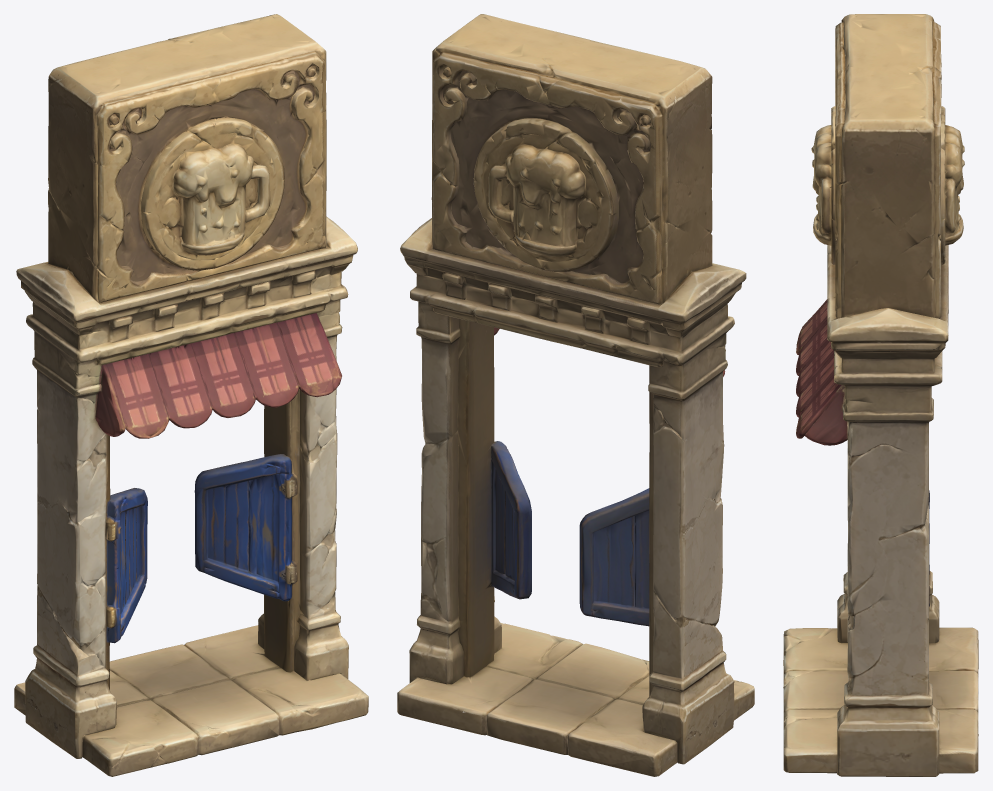
File: door-tripo.glb
3 renders of one model, left to right at view 1: azimuth 30°, elevation 25°; view 2: azimuth 150°, elevation 25°; view 3: azimuth 270°, elevation 25°, orthographic. The views are drawn at different scales.
Parts seen in each view (by area): view 1: tripo_node_99ace749-cbe9-4c41-affd-e51fc15b9c09; view 2: tripo_node_99ace749-cbe9-4c41-affd-e51fc15b9c09; view 3: tripo_node_99ace749-cbe9-4c41-affd-e51fc15b9c09.
Boxes of the visible parts, left/top/right/bottom form: tripo_node_99ace749-cbe9-4c41-affd-e51fc15b9c09: left=14, top=14, right=368, bottom=776; tripo_node_99ace749-cbe9-4c41-affd-e51fc15b9c09: left=397, top=14, right=754, bottom=776; tripo_node_99ace749-cbe9-4c41-affd-e51fc15b9c09: left=783, top=14, right=978, bottom=776.
Bounding box in the file's own units: 0.4458 × 0.9796 × 0.2682.
Materials: 1 (1 with a texture image).
